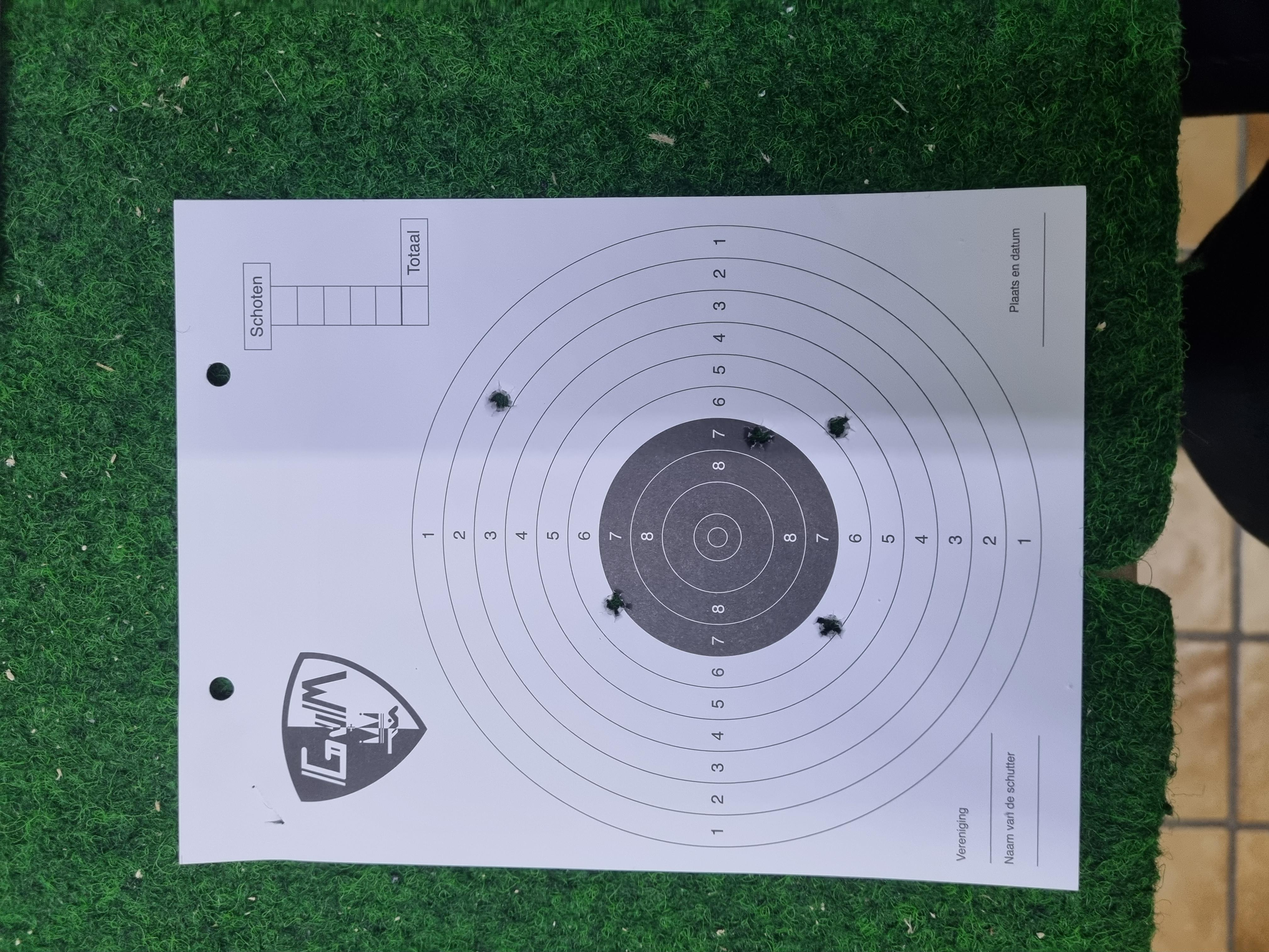hole: (718, 364, 762, 387), (440, 452, 482, 474), (415, 610, 451, 635), (681, 618, 717, 642), (668, 558, 704, 582)
